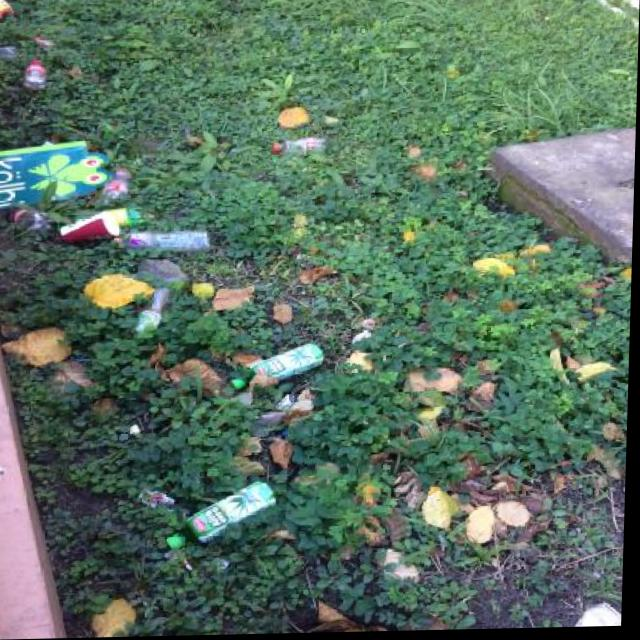cardboard: (0, 137, 114, 211), (60, 209, 121, 245), (0, 0, 13, 22)
glass: (165, 480, 279, 549), (230, 342, 326, 390)
plastic: (112, 229, 211, 253), (136, 288, 171, 331), (99, 167, 134, 204), (273, 137, 326, 154), (22, 59, 47, 91)
